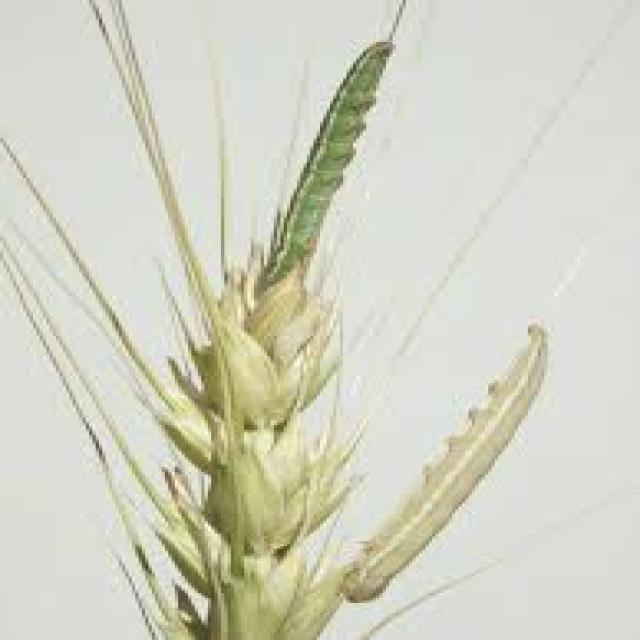Wheathead: (162, 281, 384, 640)
